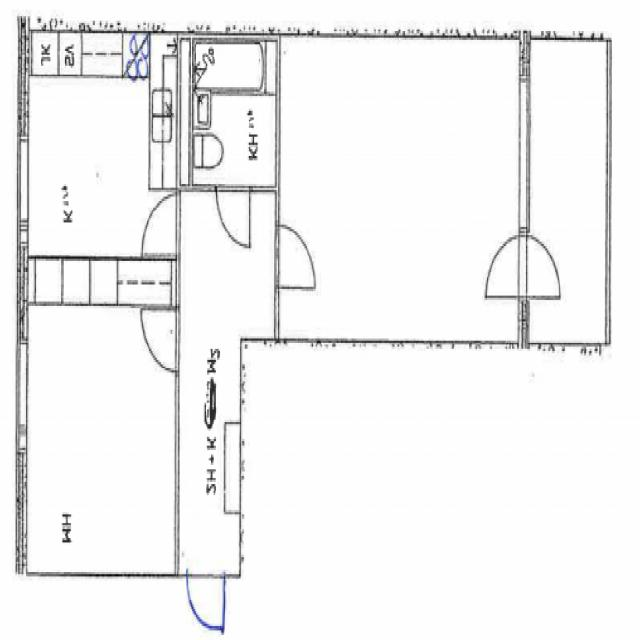door: (482, 233, 531, 298), (520, 233, 569, 298), (141, 312, 182, 376), (276, 227, 315, 287), (216, 185, 250, 253), (143, 196, 182, 255)
